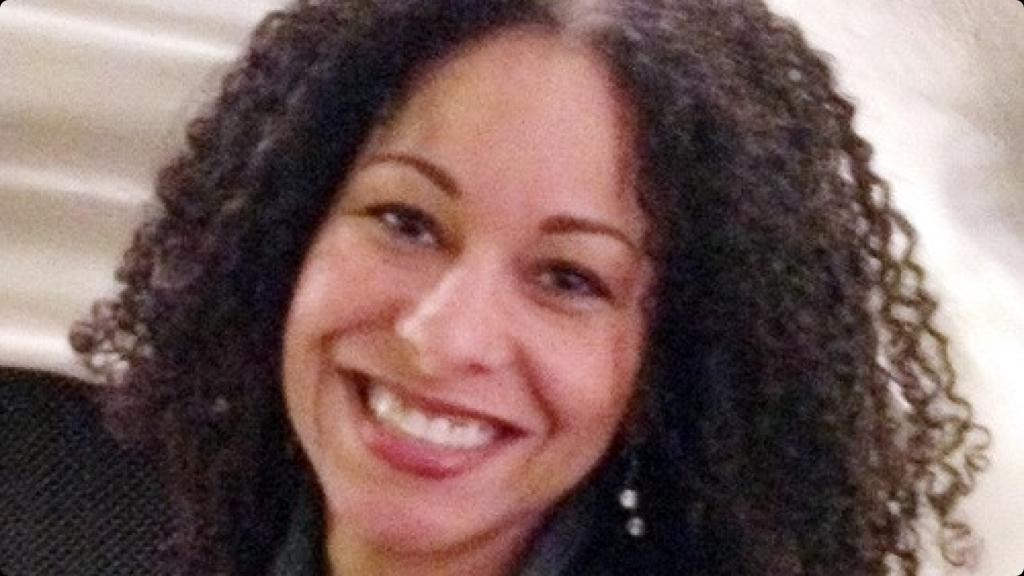face: (280, 32, 662, 548)
